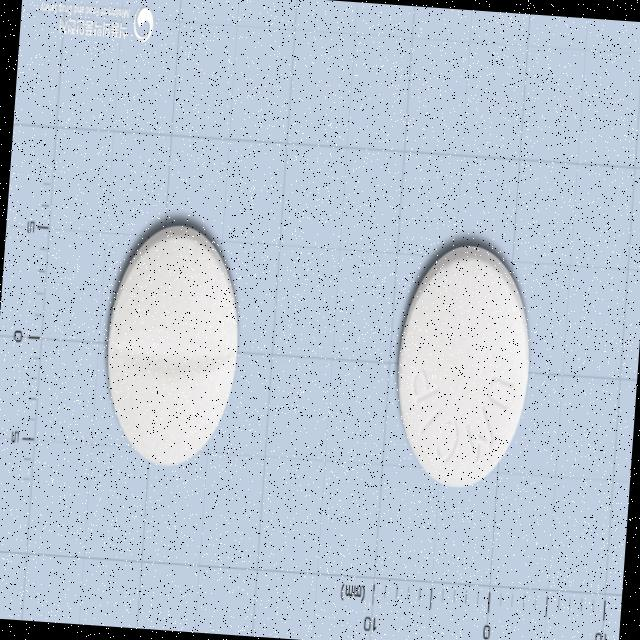Ciprofloxacin HCl Tab- Unimed: (383, 234, 540, 498), (93, 214, 250, 475)
